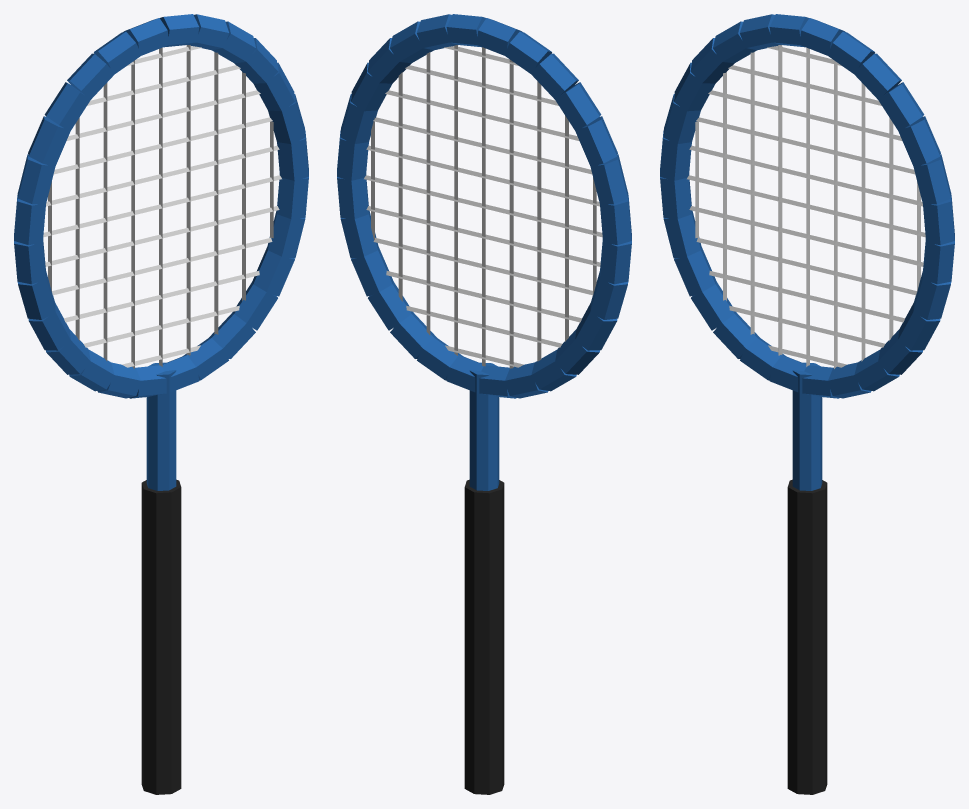
Rendered from racket.glb.
3 renders of one model, left to right at view 1: azimuth 30°, elevation 25°; view 2: azimuth 150°, elevation 25°; view 3: azimuth 330°, elevation 25°, orthographic.
Visible parts, largest first — view 1: racket; view 2: racket; view 3: racket.
Boxes of the visible parts, left/top/right/bottom form: racket: left=14, top=14, right=308, bottom=794; racket: left=337, top=14, right=631, bottom=794; racket: left=660, top=14, right=954, bottom=794.
Bounding box in the file's own units: 0.2659 × 0.6629 × 0.032.
